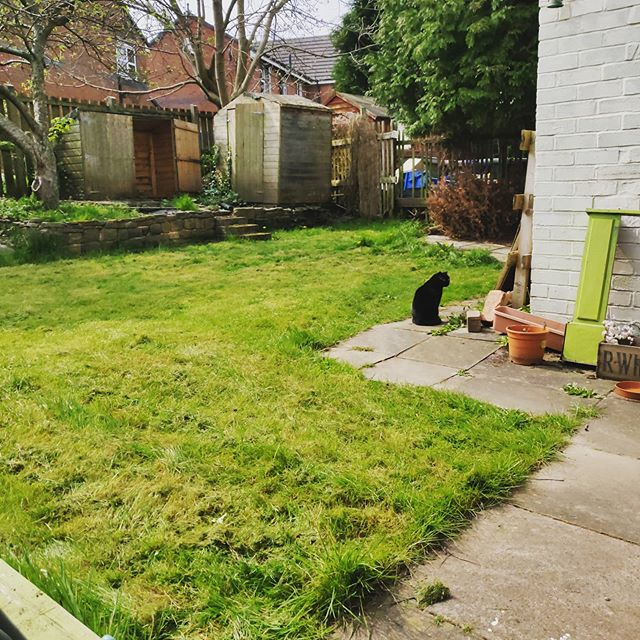animal: (405, 261, 447, 329)
building: (530, 1, 640, 380), (147, 20, 340, 113)
grass: (1, 218, 417, 640)
tree: (335, 1, 526, 155), (1, 1, 115, 210), (153, 1, 325, 114)
